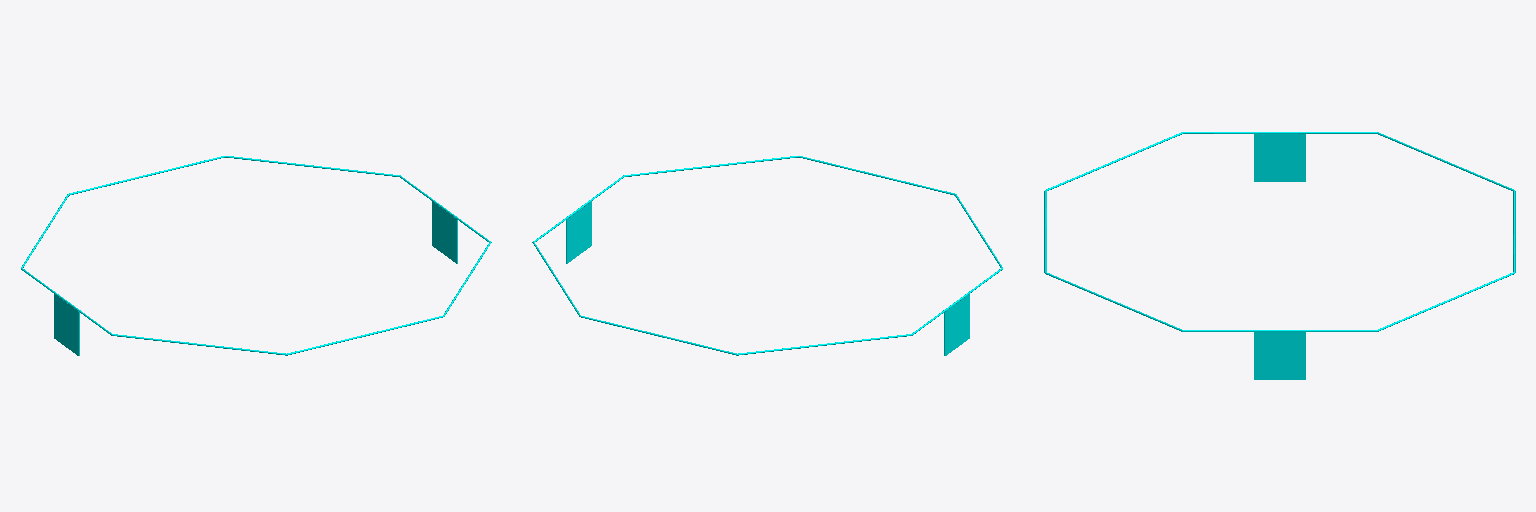
robot.urdf — octagon:
<?xml version="1.0"?>
<robot name="octagon">

    <link name="dummy_link"/>
    
    <joint name="dummy_joint" type="fixed">
        <parent link="dummy_link"/>
        <child link="base_link"/>
    </joint>

    <link name="base_link">
        <inertial>
            <mass value="20.0"/>
            <inertia ixx="1.0" ixy="0.0" ixz="0.0" iyy="1.0" iyz="0.0" izz="1.0"/>
        </inertial>
    </link>

    <link name="octagon_link"> 
        <visual>
            <origin rpy="0.0 0.0 0.0" xyz="0.0 0.0 0.0"/>
            <geometry>
                <mesh filename="package://uuv_visualization/meshes/octagon.stl" scale="1.0 1.0 1.0"/>
            </geometry>
            <material name="Cyan">
                <color rgba="0 1.0 1.0 1.0"/>
            </material>
        </visual>
        <collision>
            <origin rpy="1.57 0.0 0.0" xyz="0 0 0"/> 
            <geometry>
                <box size="1.0 0.5 0.5"/>
            </geometry>
        </collision>
        <inertial>
            <mass value="0.1"/> 
            <inertia ixx="0.001" ixy="0" ixz="0" iyy="0.001" iyz="0" izz="0.001"/>
        </inertial>
    </link>

    <joint name="base_to_octagon" type="fixed">
        <parent link="base_link"/>
        <child link="octagon_link"/> 
        <origin xyz="0 0 0" rpy="0 0 0"/>
    </joint>

    <gazebo reference="base_link">
        <static>true</static>
        <gravity>0</gravity>
    </gazebo>

    <gazebo>
        <plugin filename="ignition-gazebo-pose-publisher-system" name="ignition::gazebo::systems::PosePublisher">
            <publish_link_pose>false</publish_link_pose>
            <publish_model_pose>true</publish_model_pose>
            <update_frequency>50</update_frequency> 
        </plugin>
    </gazebo>
</robot>

--- Facts derived from the render (not from the file) ---
The picture shows the robot from 3 angles, left to right: view 1: azimuth 30°, elevation 25°; view 2: azimuth 150°, elevation 25°; view 3: azimuth 270°, elevation 25°; orthographic projection.
Robot: octagon — 3 links, 2 joints (2 fixed); root link dummy_link; default pose: every joint at zero.
Links seen in each view (by area): view 1: octagon_link; view 2: octagon_link; view 3: octagon_link.
Boxes of the visible links, x1,y1,x2,y2 form: octagon_link: (21, 156, 491, 355); octagon_link: (532, 156, 1002, 355); octagon_link: (1044, 132, 1515, 379).
Bounding box of the posed robot: 2.71 × 2.71 × 0.3177 m (x, y, z).
1 mesh visuals loaded from 1 distinct referenced files (1 binary STL).
